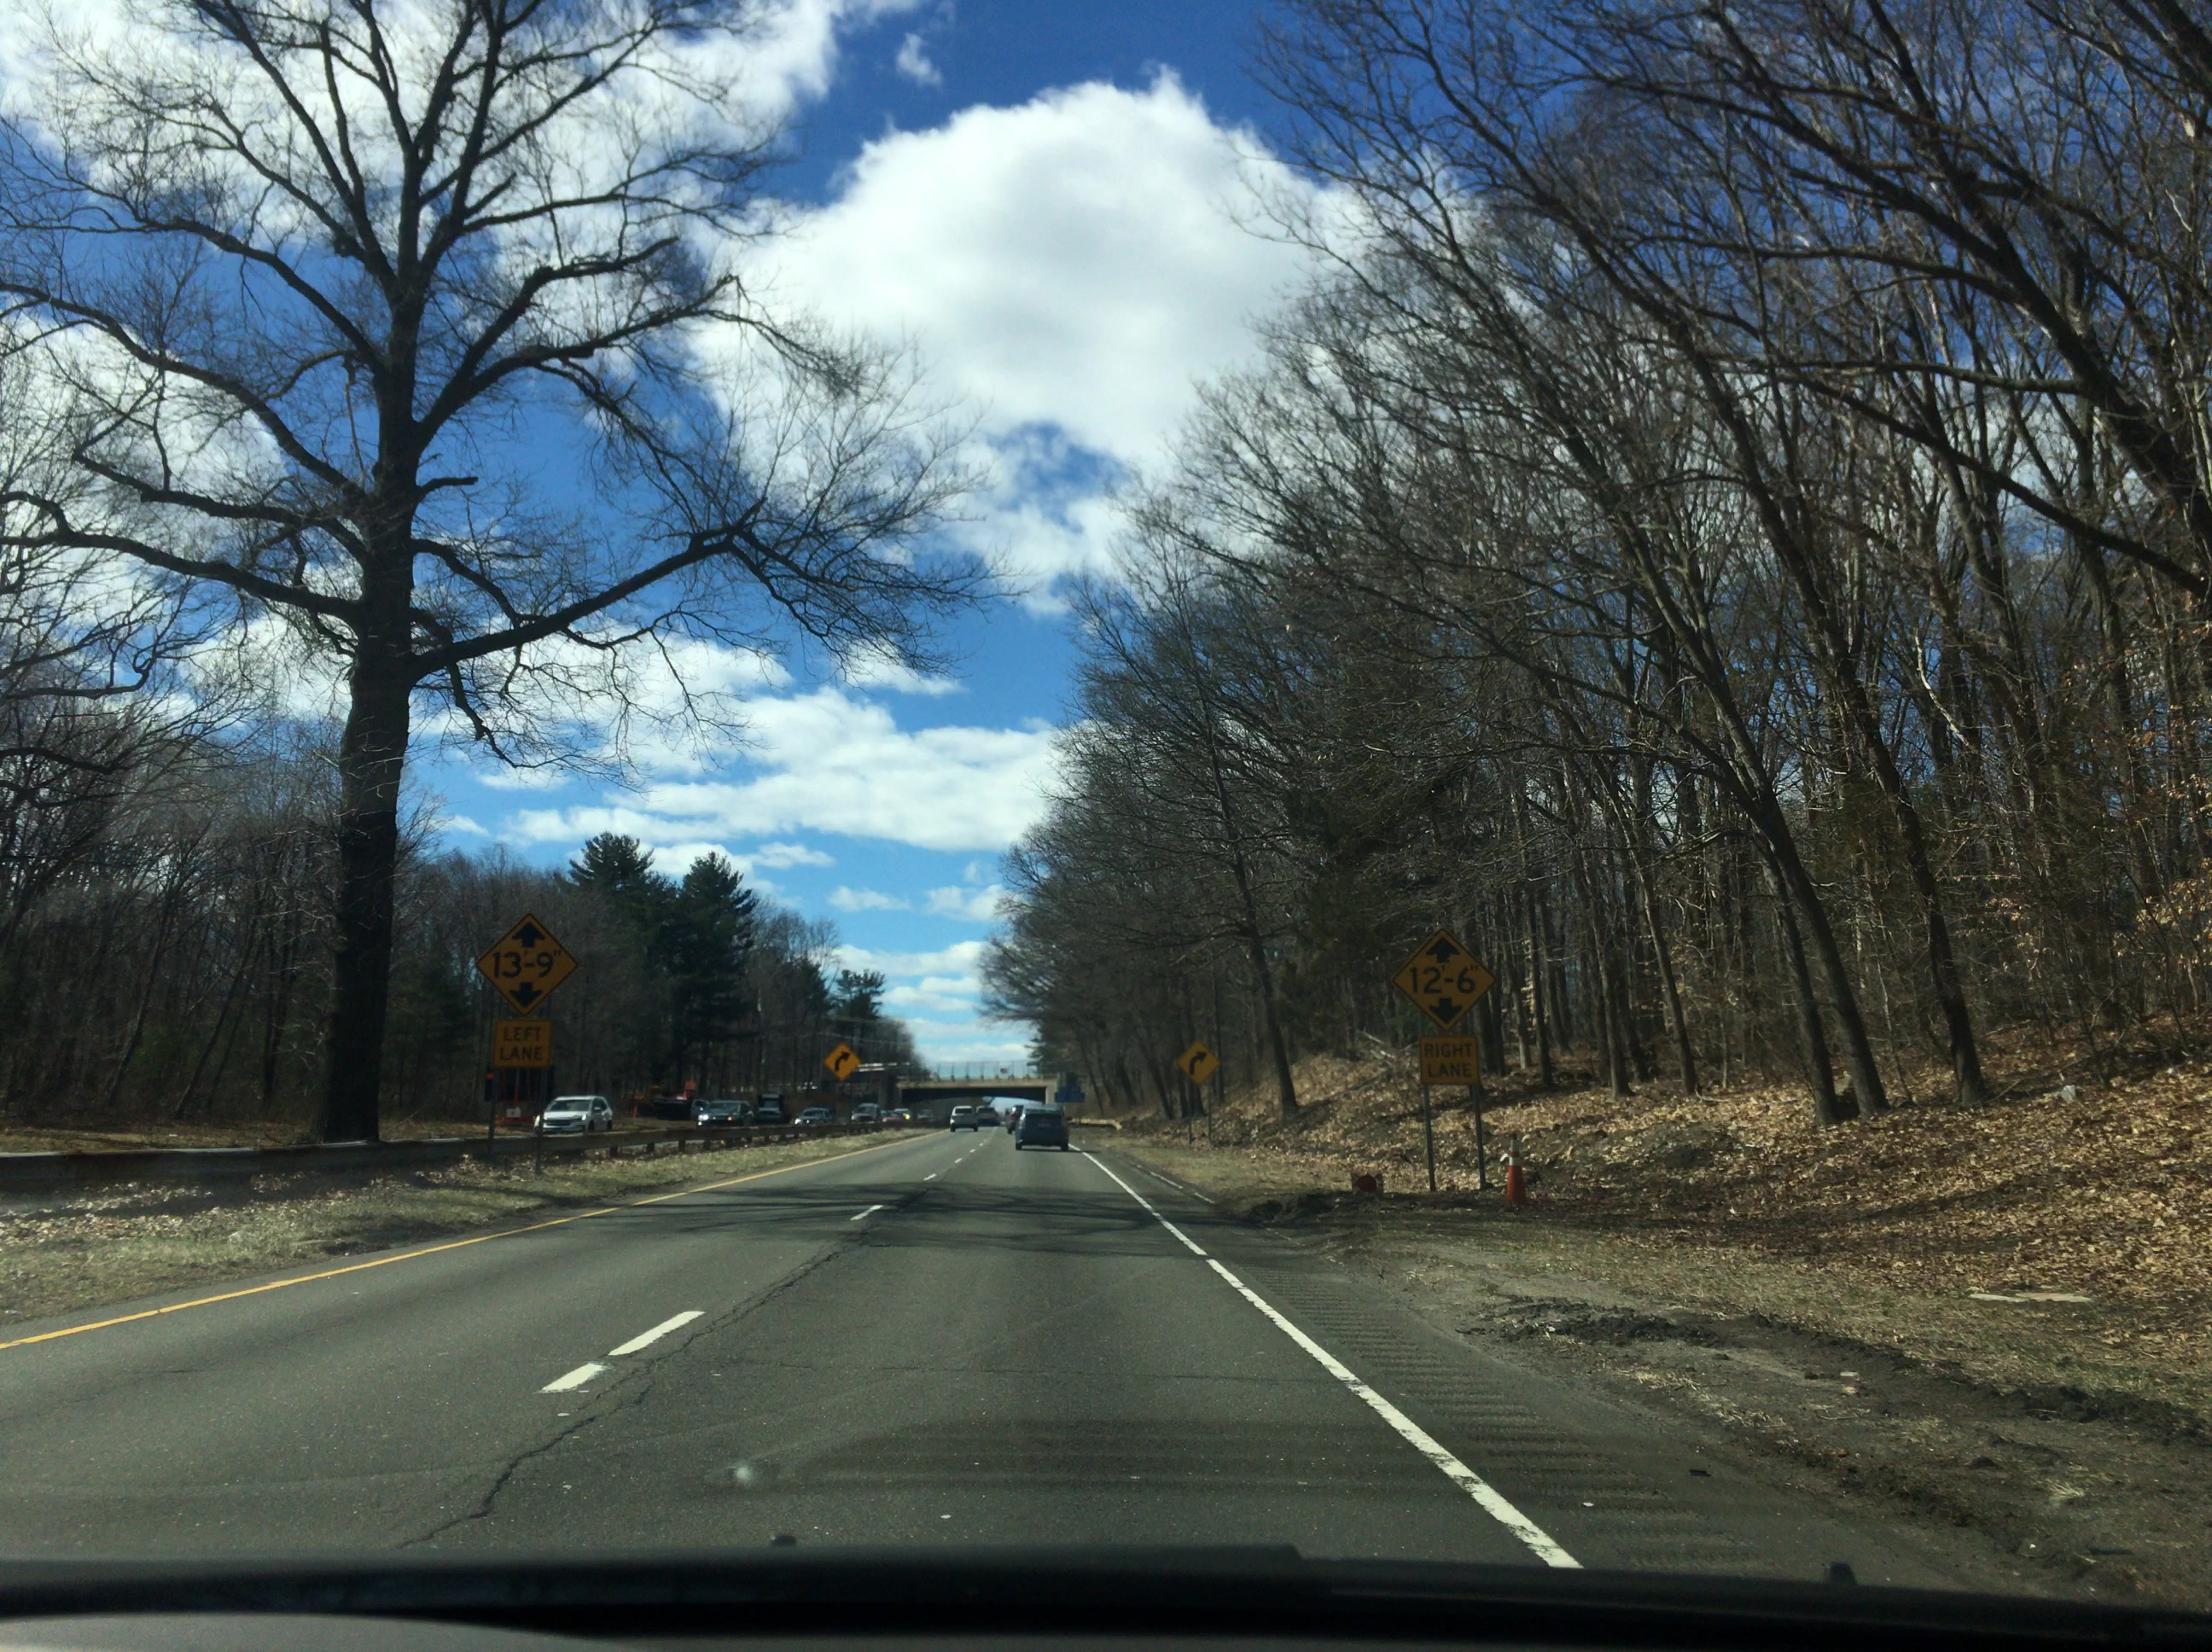low-clearance-sign: (1390, 928, 1499, 1034), (474, 913, 579, 1019)
